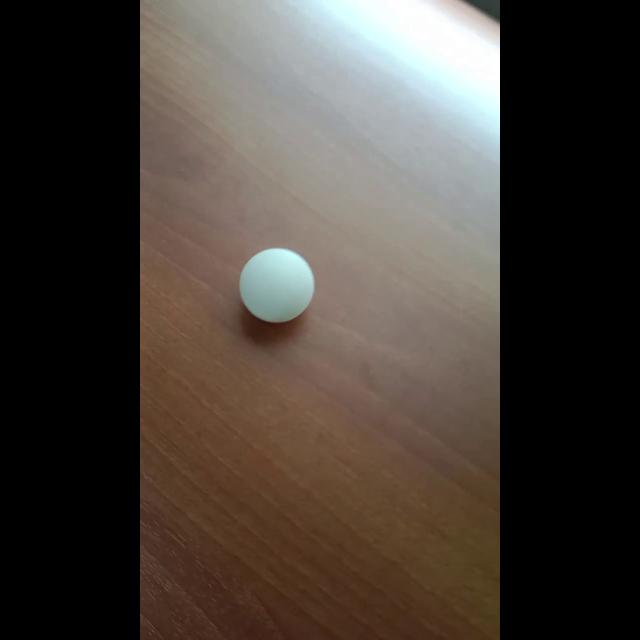white ball: (238, 248, 314, 324)
